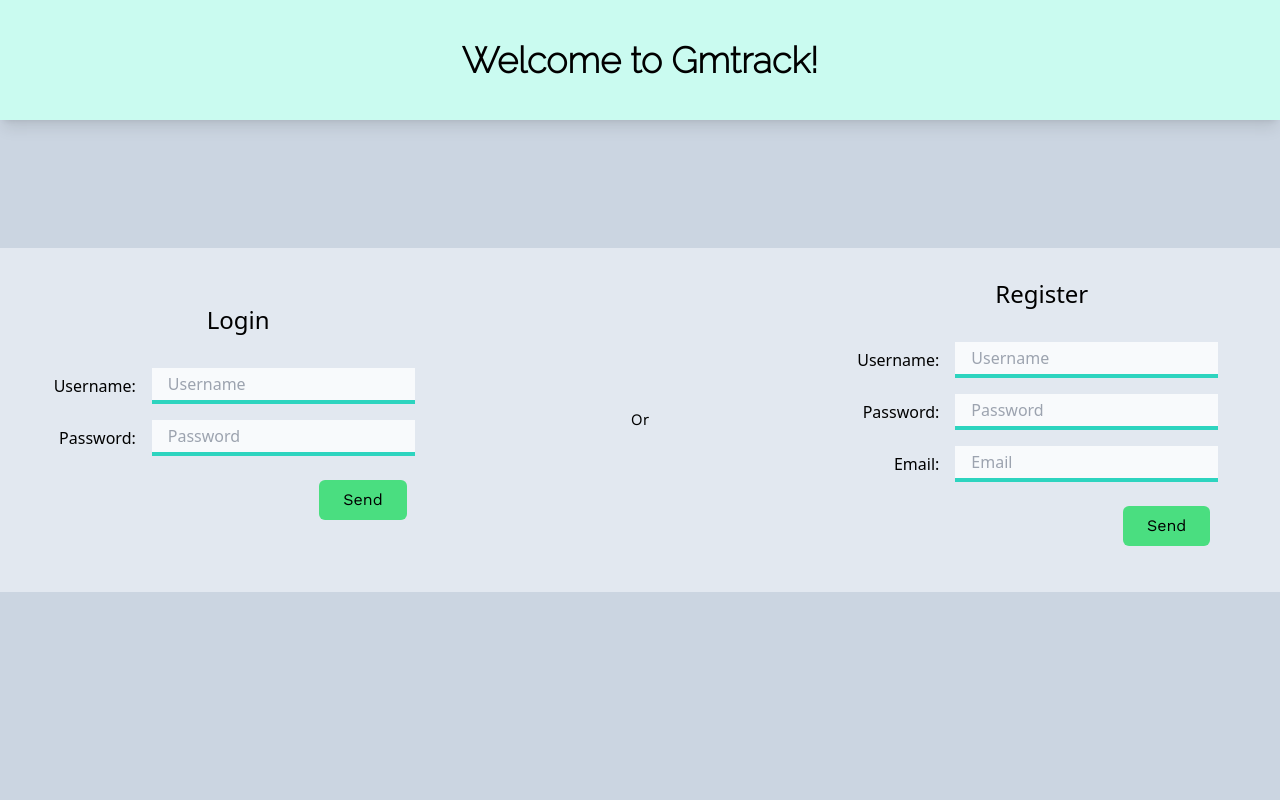
Test: Logins and adds a training log › Can't login if password or username is incorrect
The image size is (1280, 800).
Expected: the heading "Welcome to Gmtrack!" is shown, [462, 39, 818, 81]
In the field with id "login-username": (284, 386) [152, 368, 415, 404], type "incorrect"
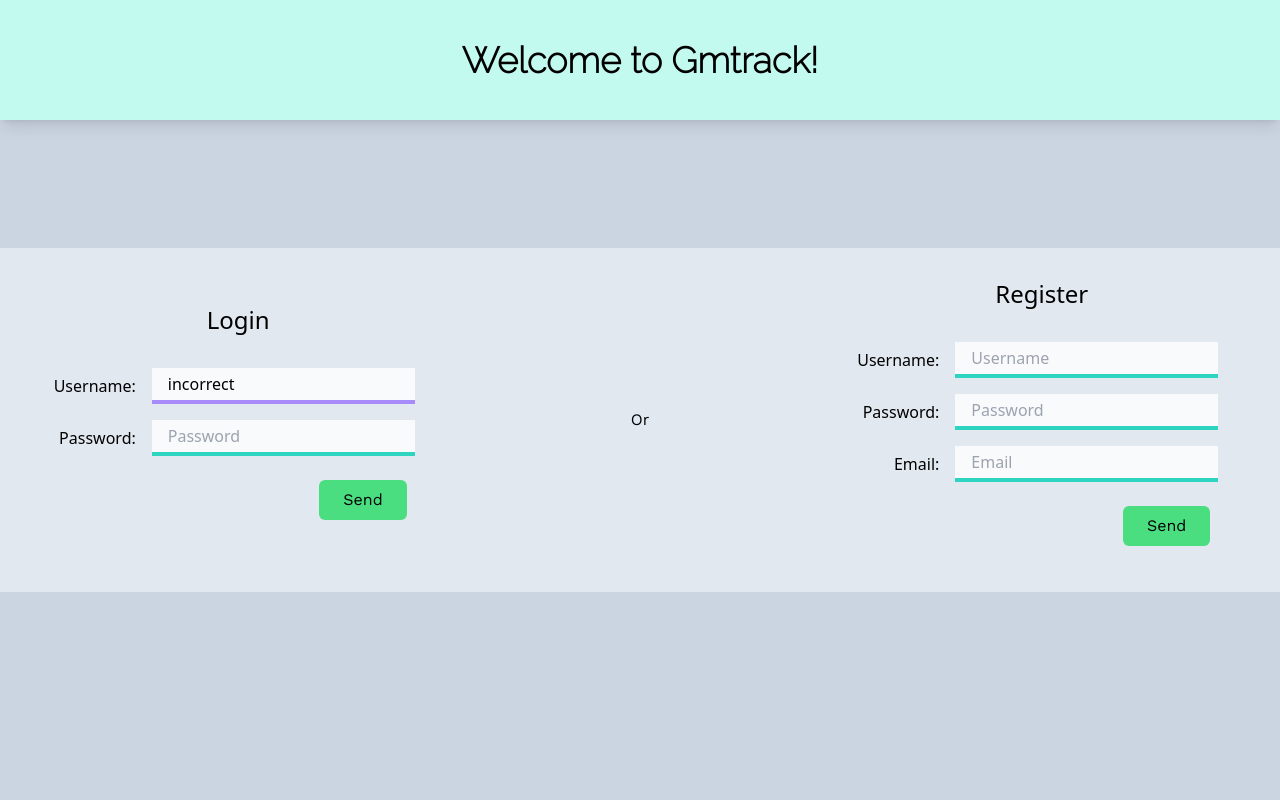
In the password field with id "login-password": (284, 438) [152, 420, 415, 456], type "incorrect"
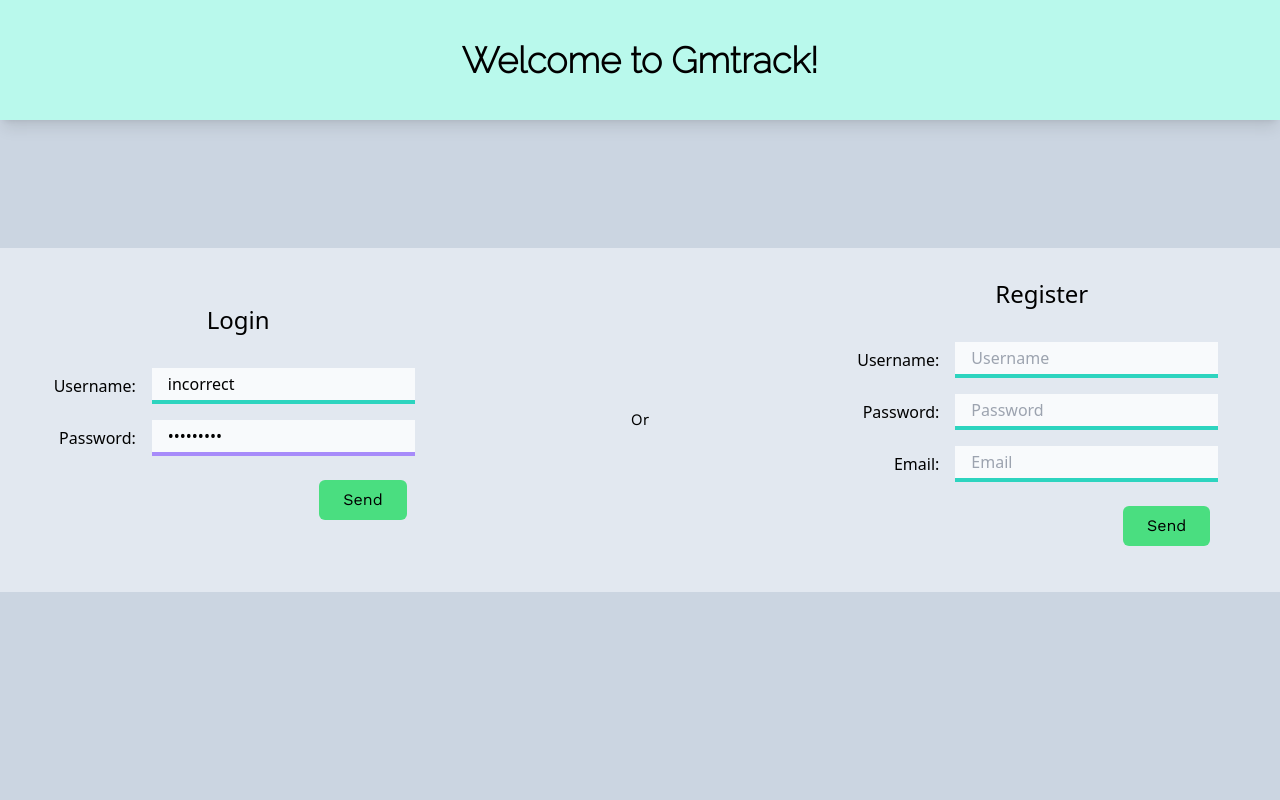
Click the button with id "login-submit": (363, 500) [319, 480, 406, 520]
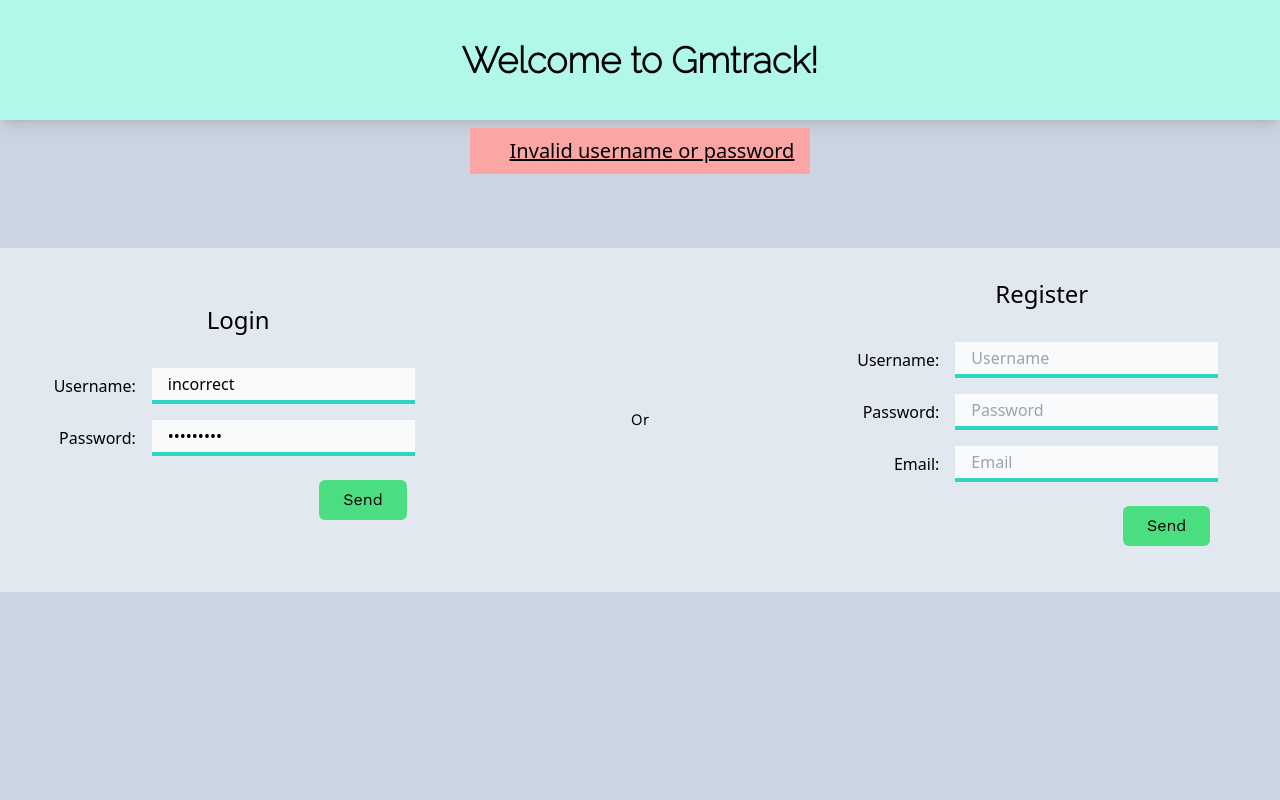
Result: the text "Invalid" is shown at [510, 137, 795, 164]
